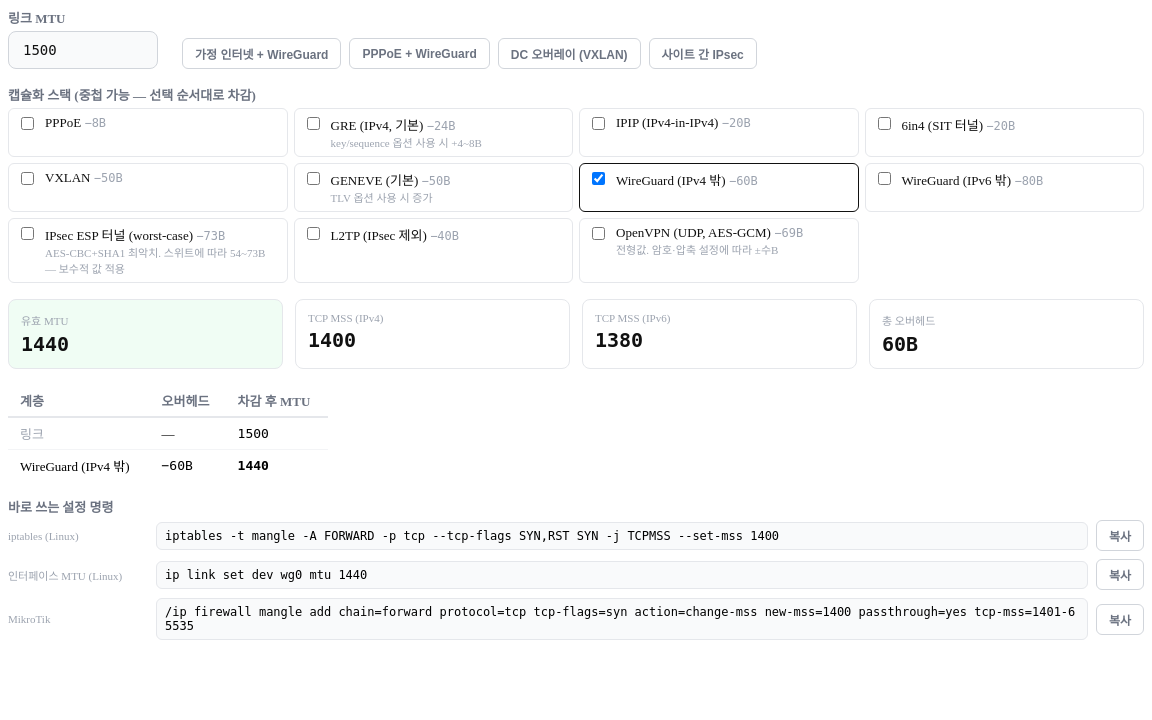
Test: MtuMssCalculator › IPsec 프리셋 → 가변 경고 렌더
Click the button "사이트 간 IPsec" at (703, 54), box [648,38,757,69]
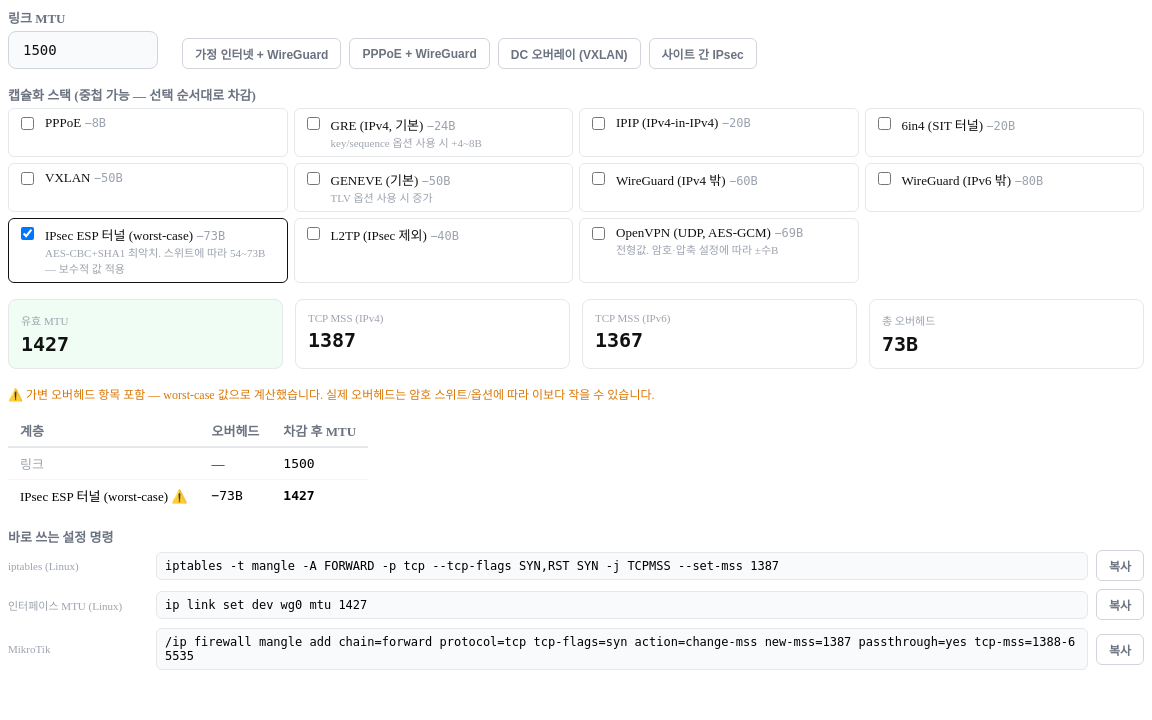
Now the text "worst-case 값으로 계산" is shown, box [26,388,654,402]
